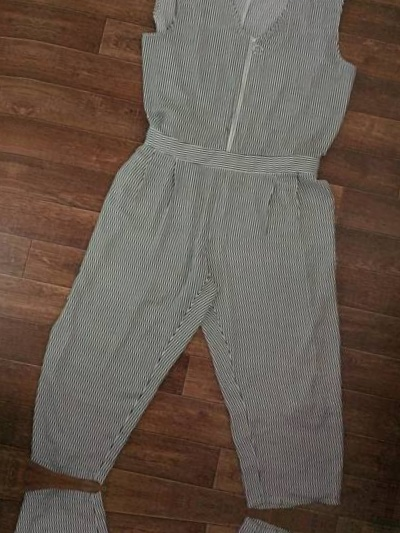Body: (2, 0, 400, 526), (0, 476, 352, 533), (0, 0, 13, 456)
